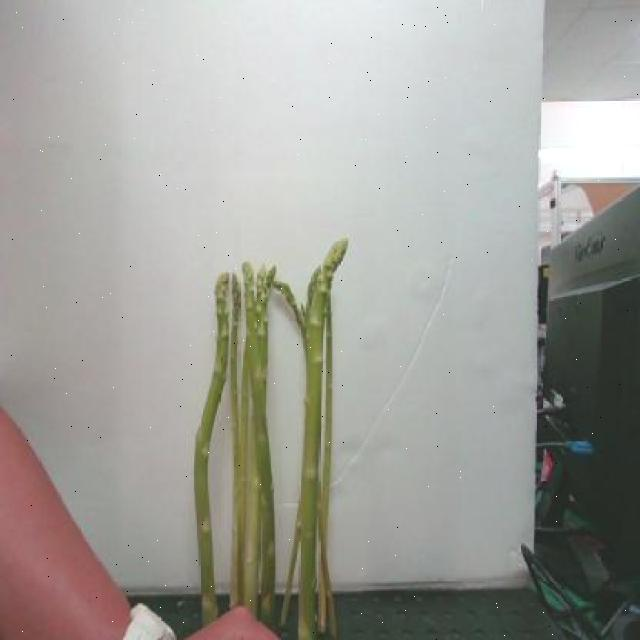aspargus: (296, 235, 350, 640), (193, 274, 230, 627)
